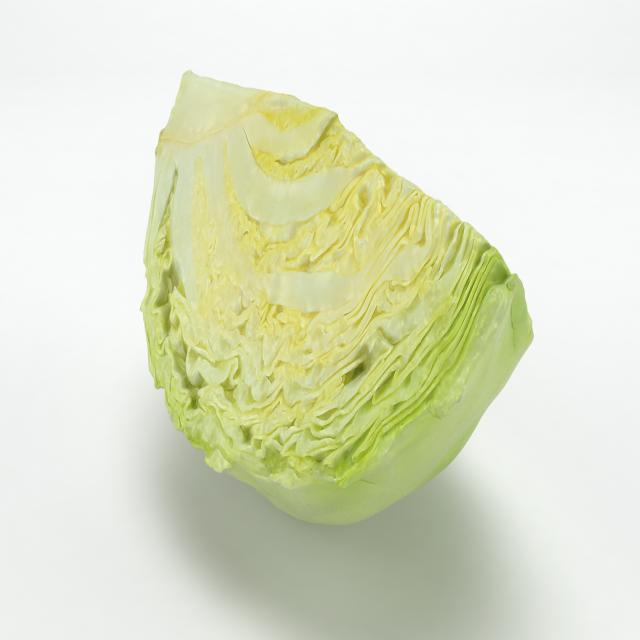haft-cabbage: (134, 67, 529, 540)
